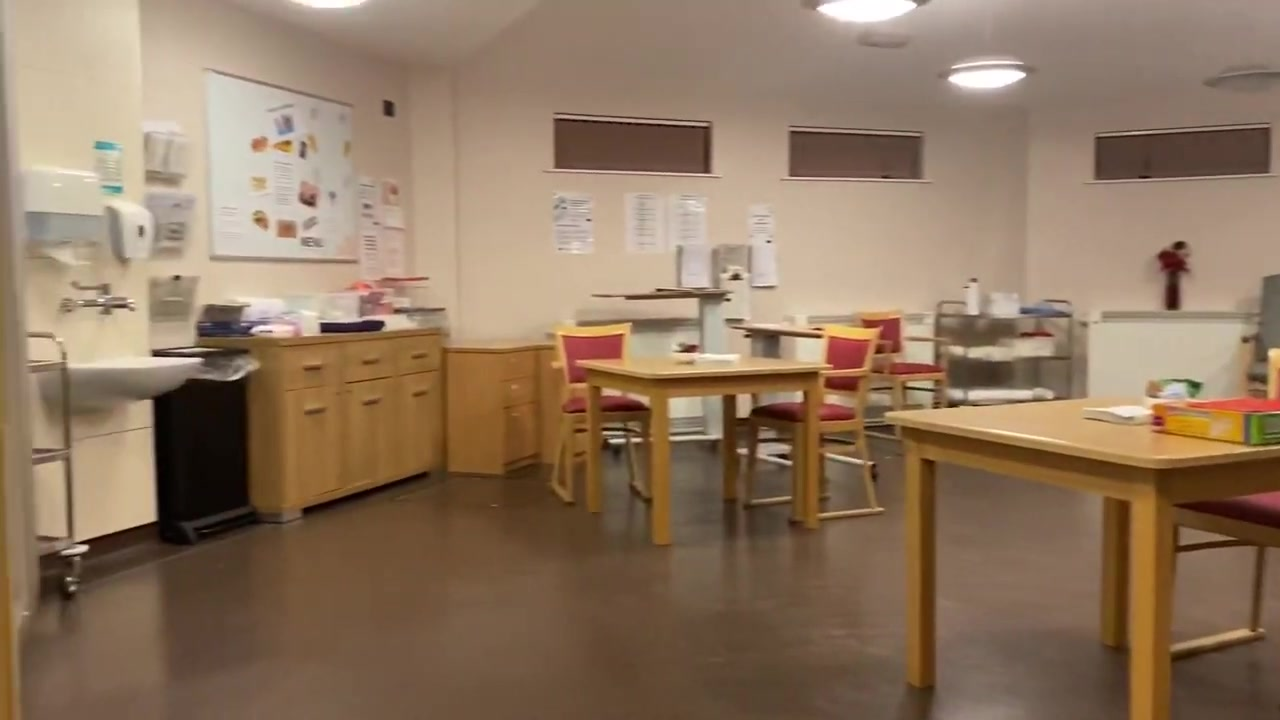chair: (1153, 348, 1280, 664), (742, 325, 886, 524), (546, 321, 651, 507), (854, 308, 953, 438)
counter: (196, 325, 442, 506), (441, 338, 563, 473)
dispenser: (23, 164, 106, 261), (105, 194, 155, 260)
faucet: (59, 278, 139, 319)
handle: (300, 357, 325, 372)
sink: (36, 358, 206, 410)
table: (883, 396, 1280, 720), (575, 353, 834, 546), (590, 284, 735, 453), (731, 324, 881, 484)
utility_cart: (29, 328, 93, 597), (934, 297, 1074, 409)
waste_bin: (151, 345, 257, 545)
